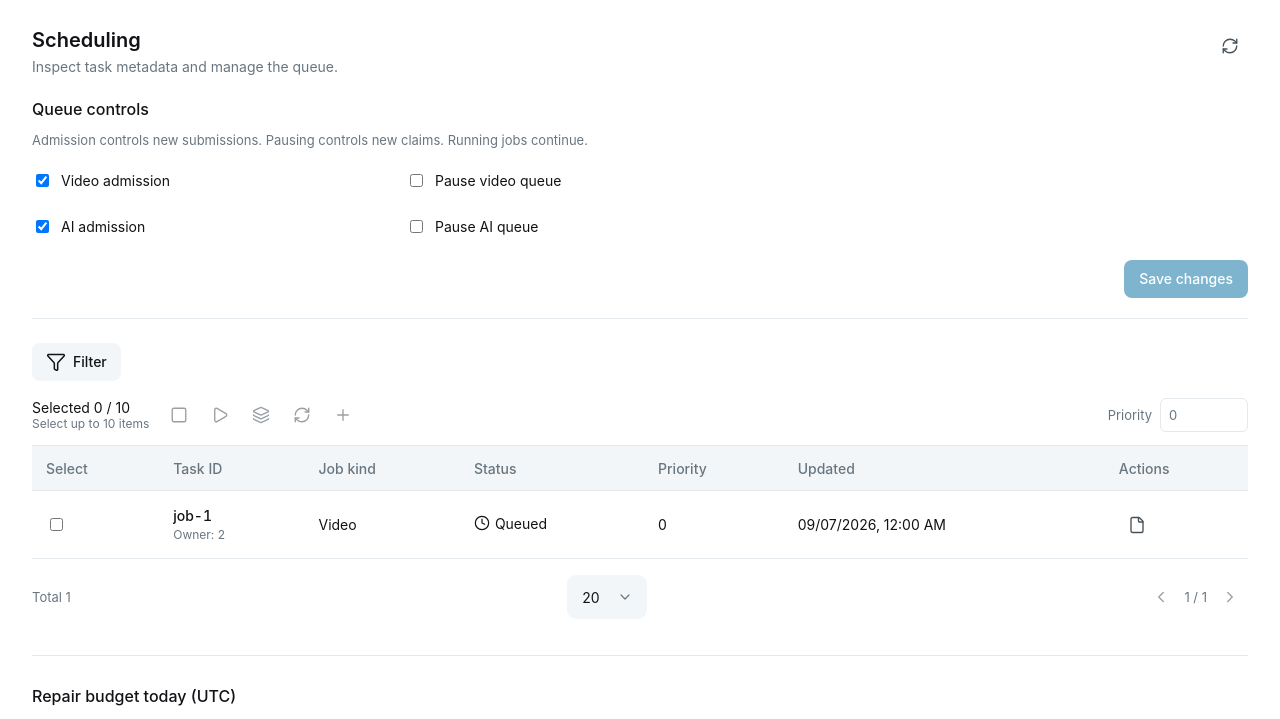
it: a stale queue action preserves an error without a success notice
This screenshot has width=1280, height=719.
Click the checkbox named "Select · job-1" at x=56, y=524, box x1=50 y1=518 x2=63 y2=531
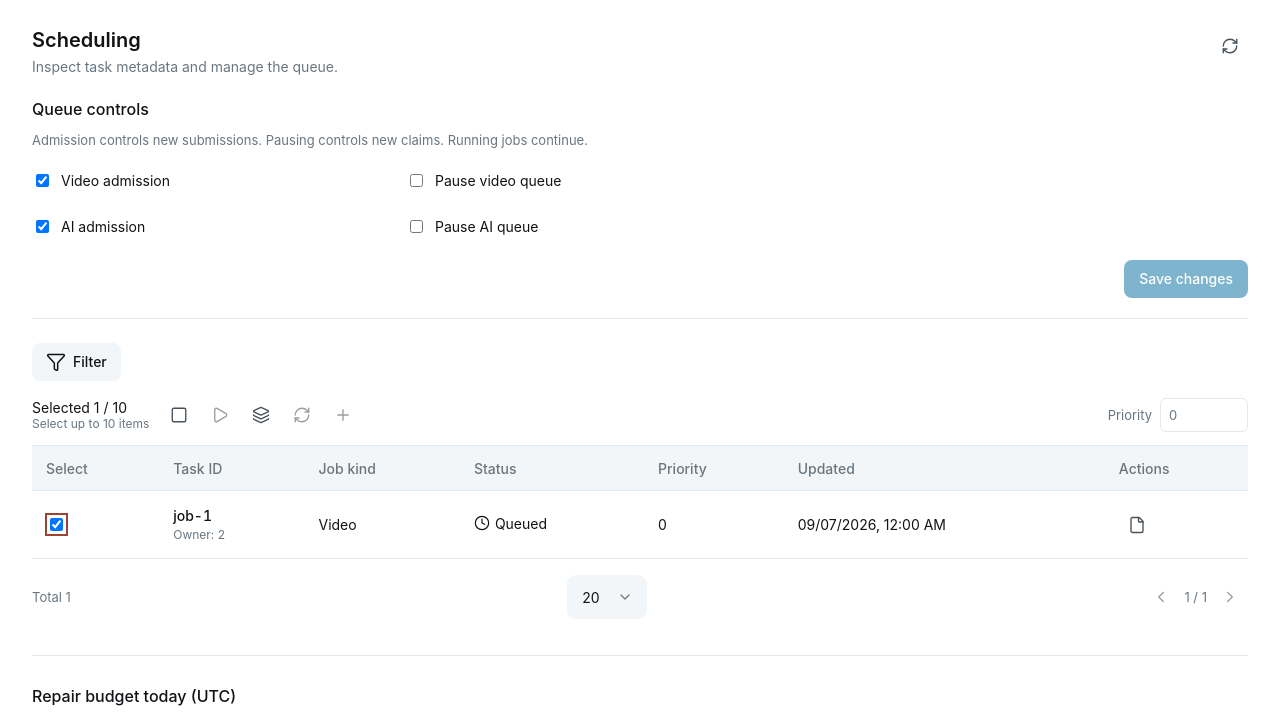
Click the button named "Hold selected" at x=179, y=415, box x1=161 y1=397 x2=197 y2=433
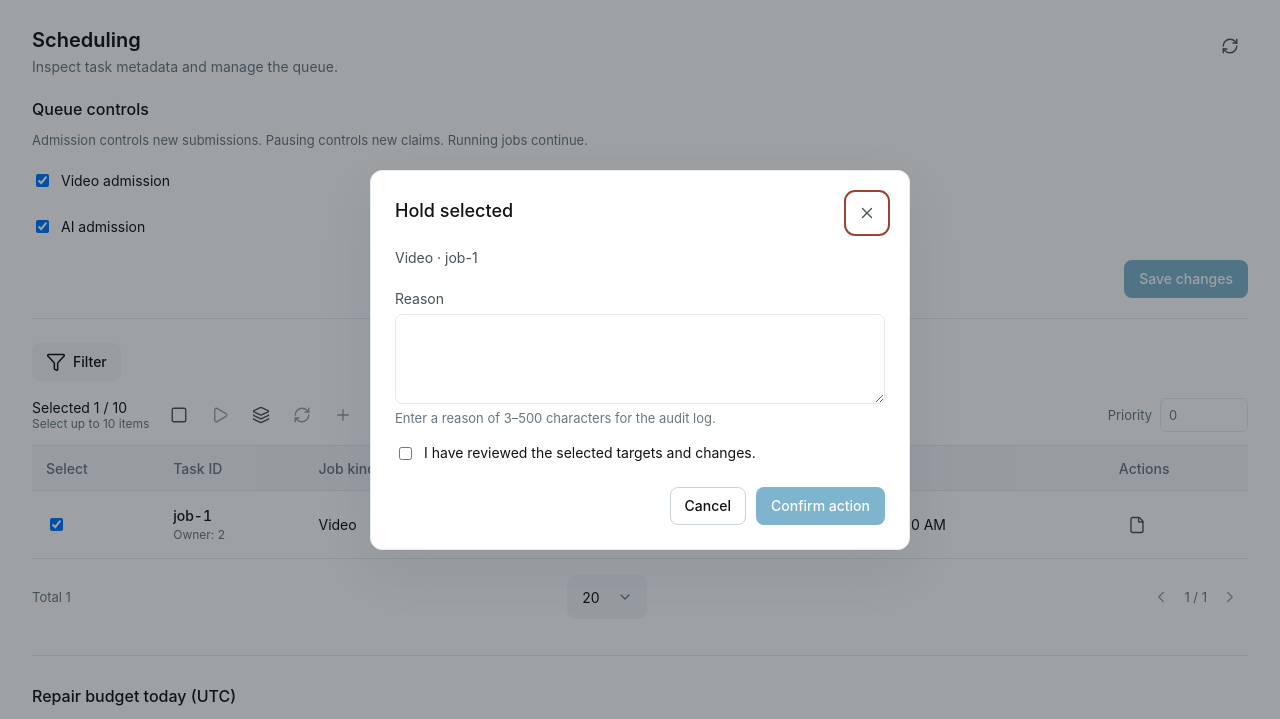
Type "maintenance window" into the text box labelled "Reason" at x=640, y=359, box x1=395 y1=314 x2=885 y2=404
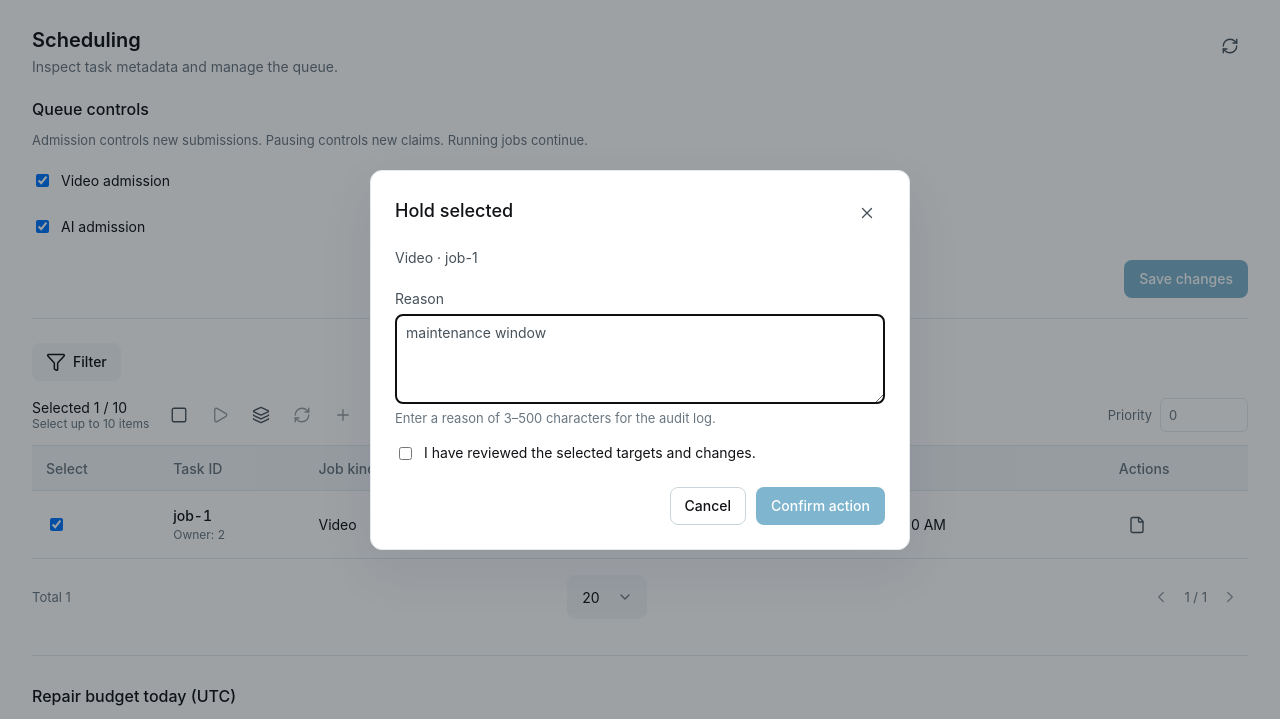
Click the checkbox labelled "I have reviewed the selected targets and changes." at x=406, y=454, box x1=399 y1=447 x2=412 y2=460
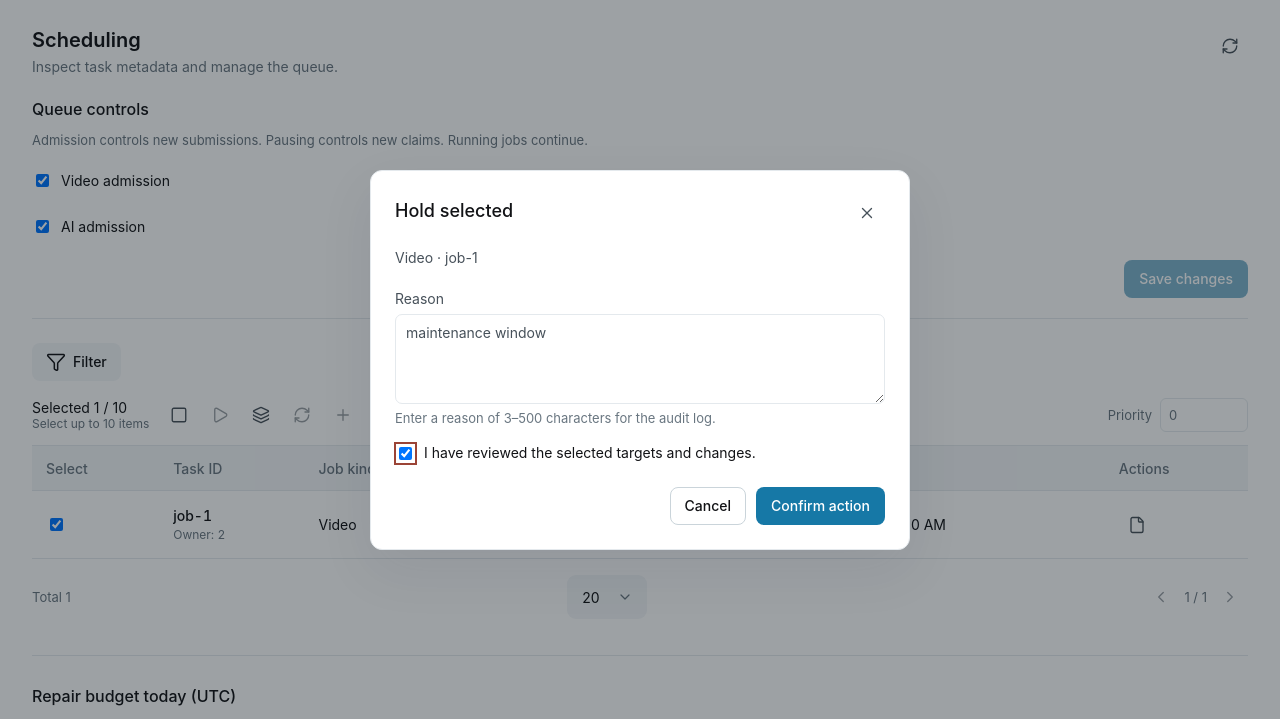
Click the button "Confirm action" at x=820, y=506, box x1=756 y1=487 x2=885 y2=525
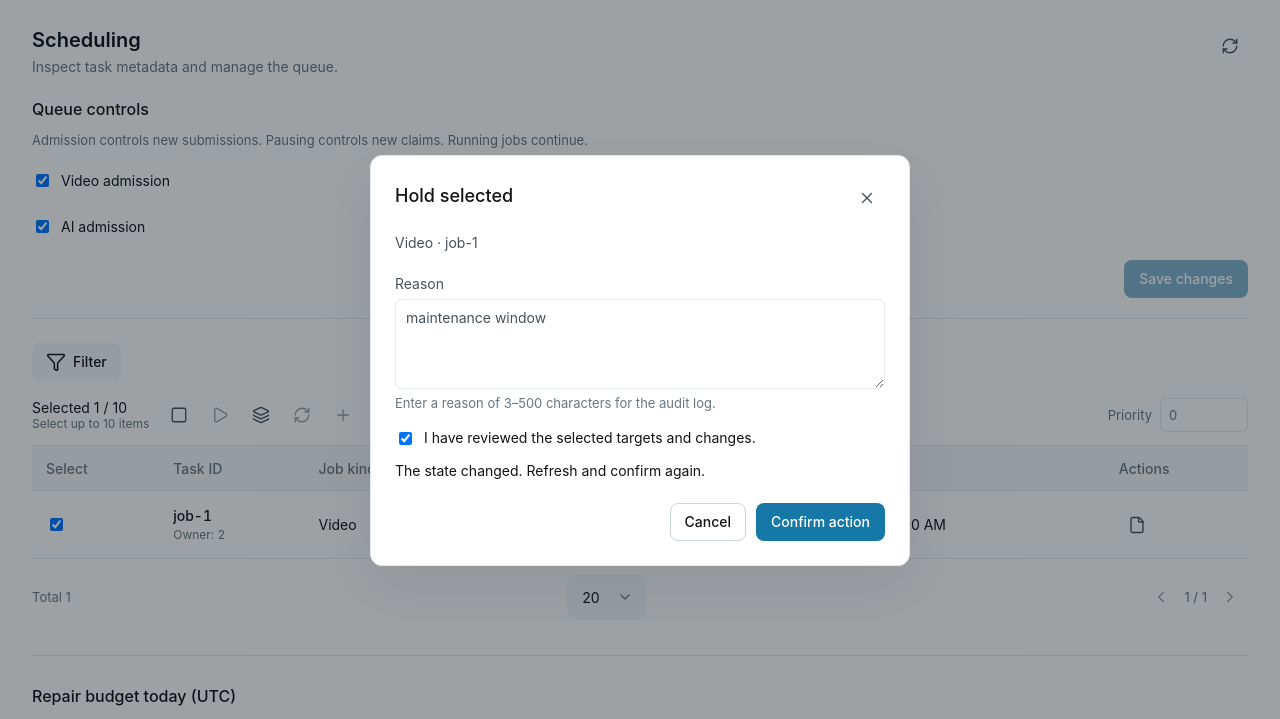
Expected: the message shows "The state changed", x1=395 y1=462 x2=705 y2=478
